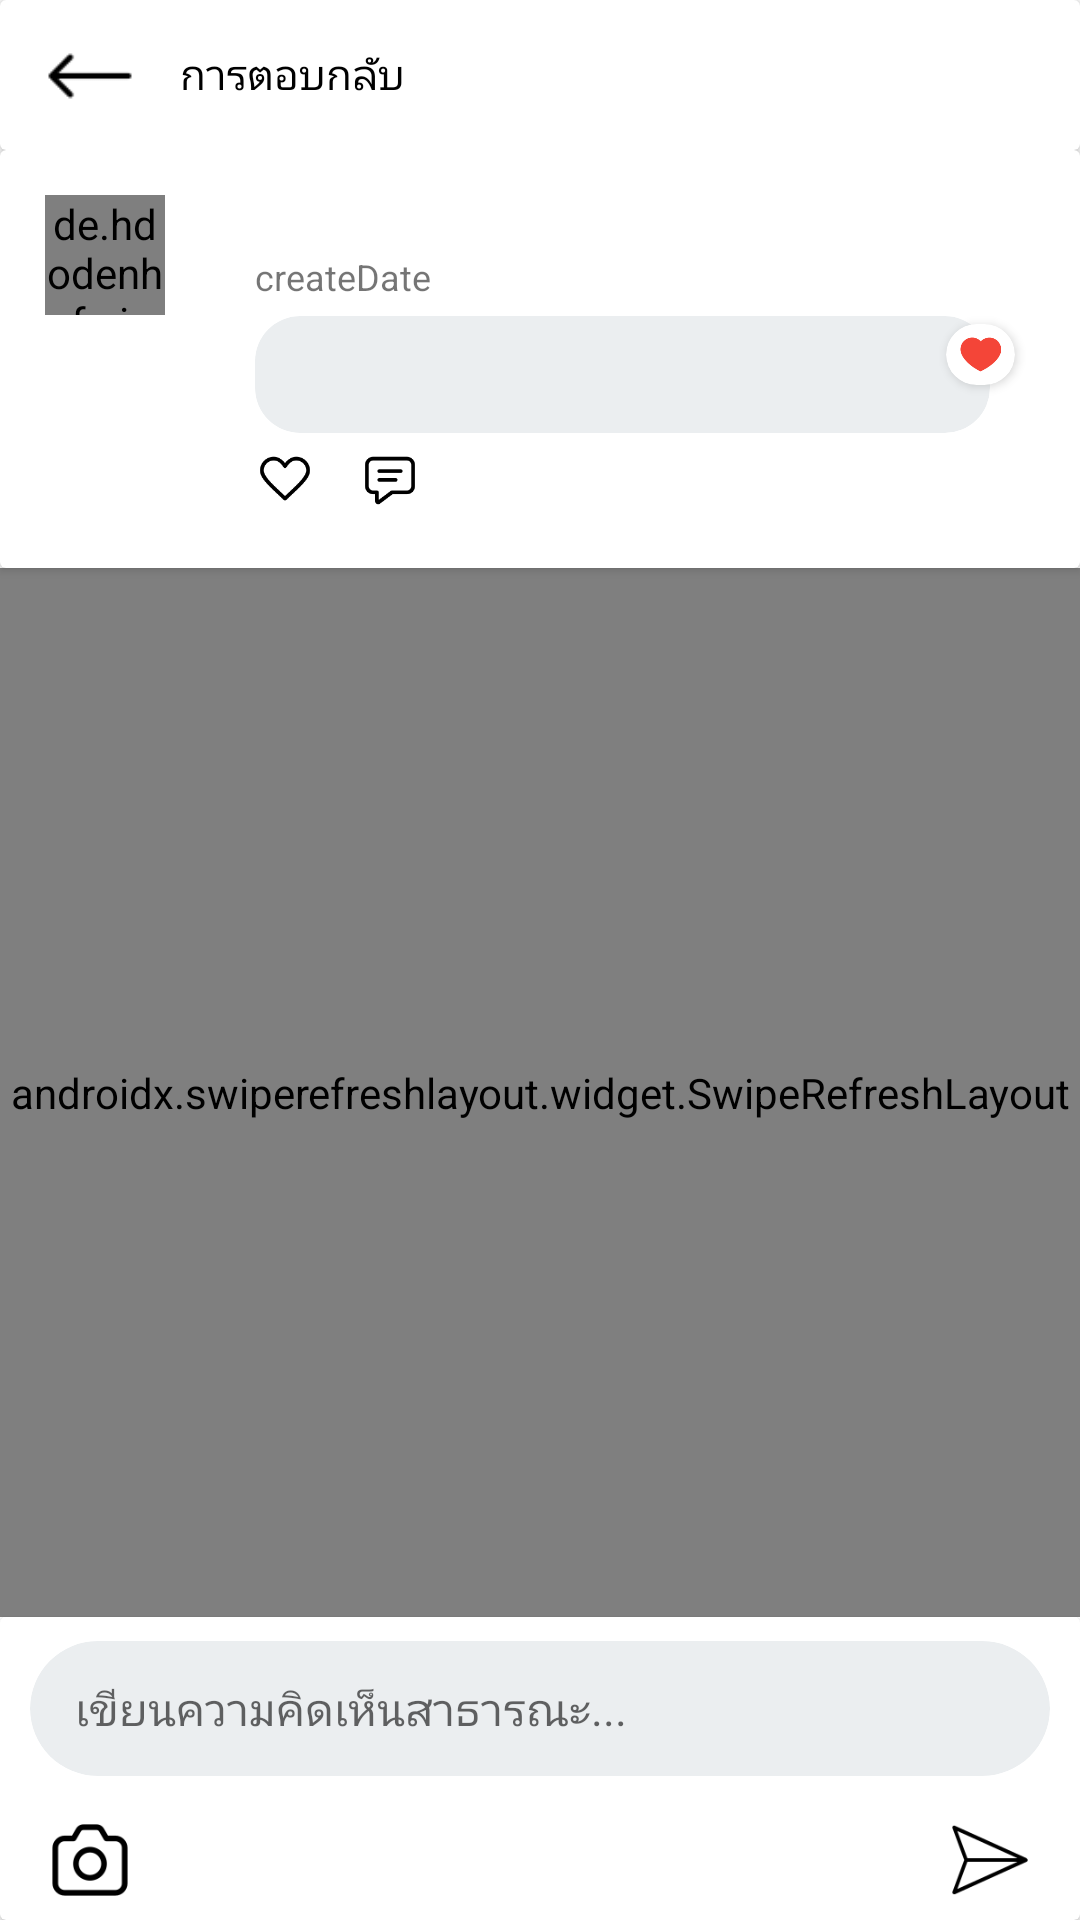

Screen size 1080w x 1920h. Icon name, then its center in pixels as [x,y]:
arrow left: [90,76]
camera: [90,1860]
comment: [390,480]
heart: [980,354], [285,478]
send: [990,1860]
